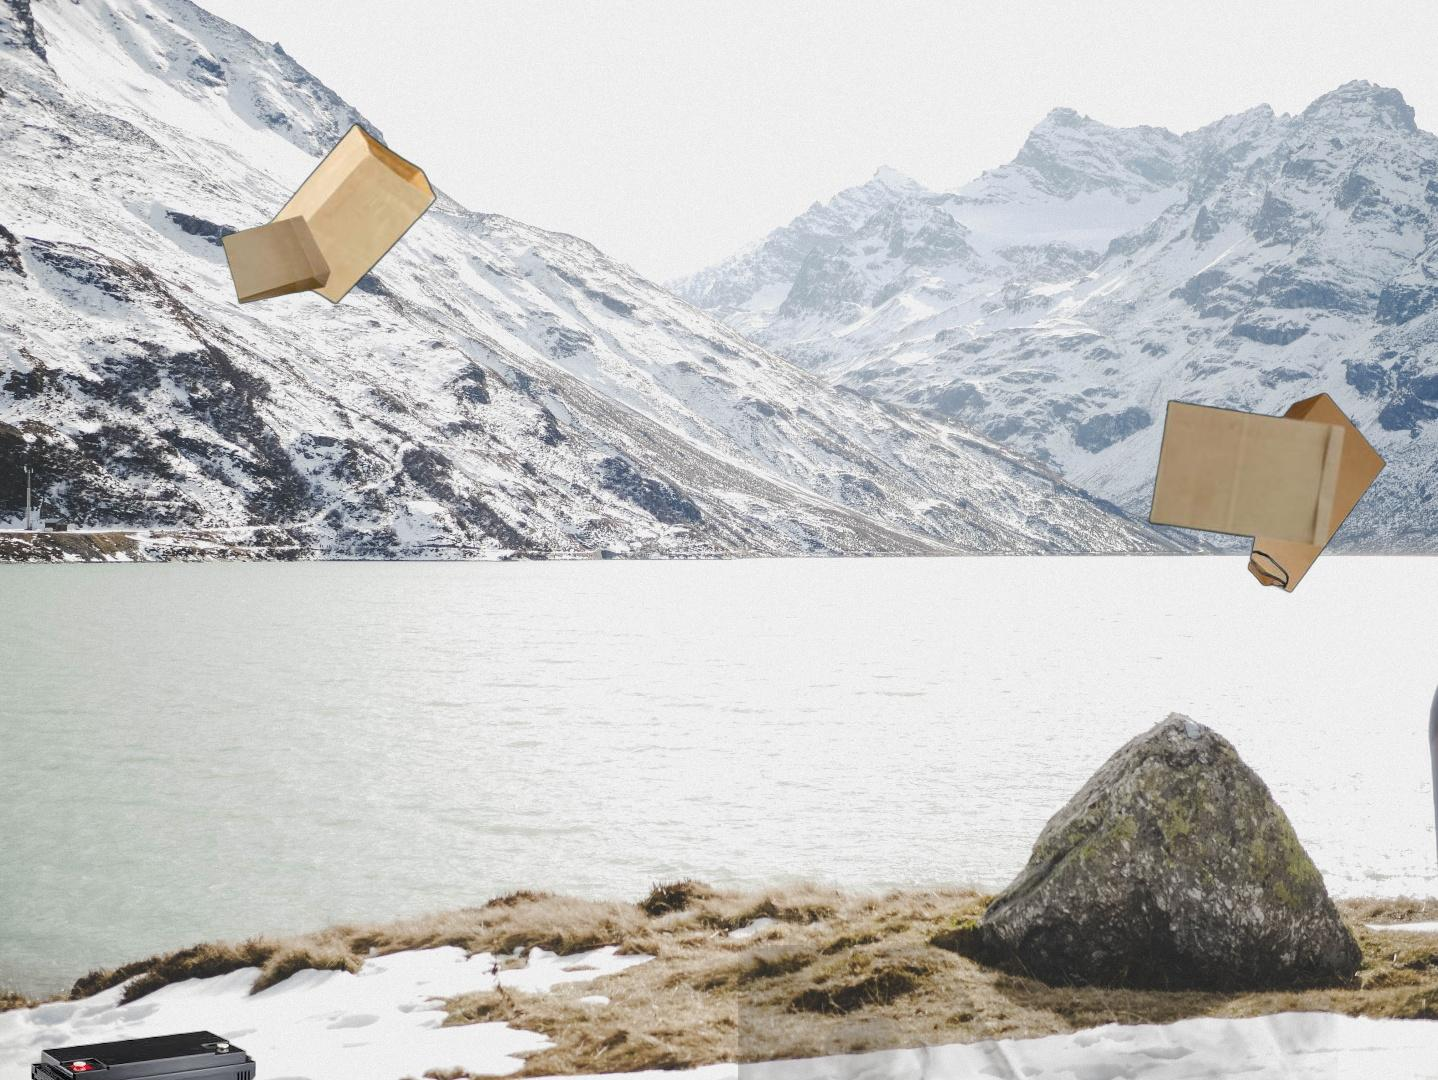battery: (31, 1028, 256, 1080)
glass: (1426, 655, 1438, 1039)
paper-bag: (1135, 390, 1388, 596), (218, 121, 439, 307)
trashbox-cardboard: (738, 945, 1338, 1080)
